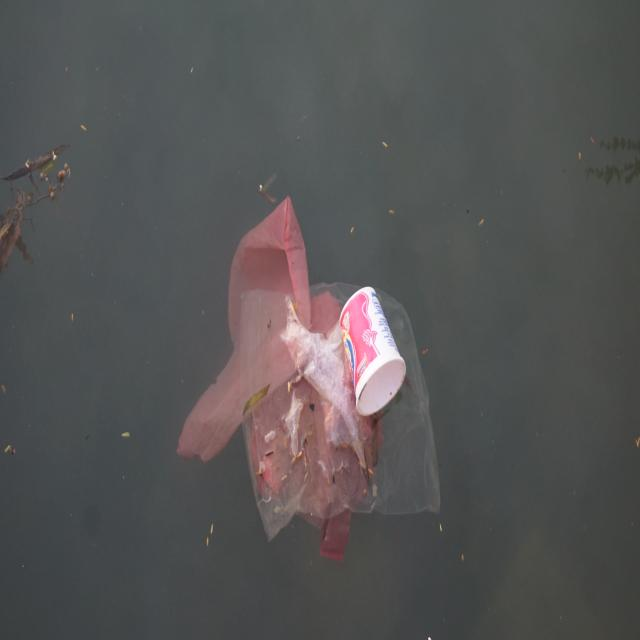Bungkus Makanan: (336, 275, 407, 413)
Kantong Plastik: (240, 283, 444, 545), (180, 187, 342, 496)
